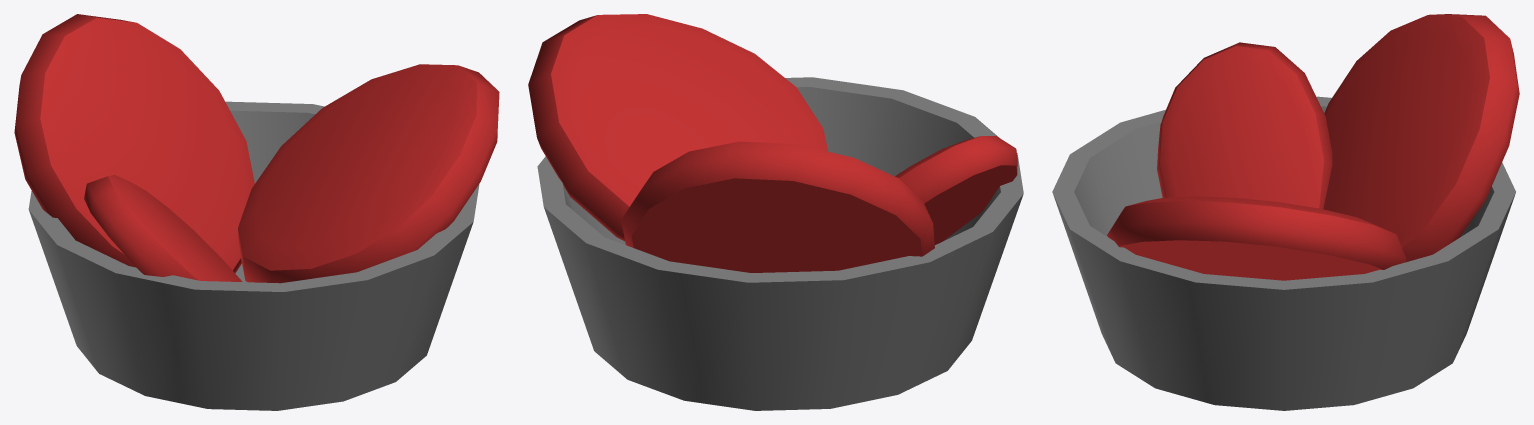
The model's file is SM_basket_bread.fbx.
3 views of the same model, side by side, from view 1: azimuth 30°, elevation 25°; view 2: azimuth 150°, elevation 25°; view 3: azimuth 270°, elevation 25° (orthographic). The views are drawn at different scales.
Parts seen in each view (by area): view 1: Cylinder424353; view 2: Cylinder424353; view 3: Cylinder424353.
Part boxes in pixels (x1=…): Cylinder424353: x1=14, y1=14, x2=499, y2=410; Cylinder424353: x1=528, y1=14, x2=1023, y2=410; Cylinder424353: x1=1052, y1=14, x2=1519, y2=410.
Bounding box in the file's own units: 25.53 × 15.17 × 24.14.
